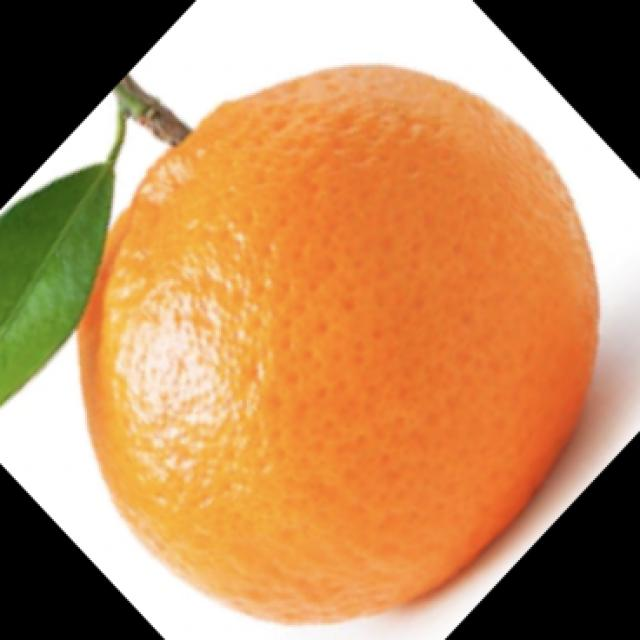fresh: (26, 46, 608, 630)
